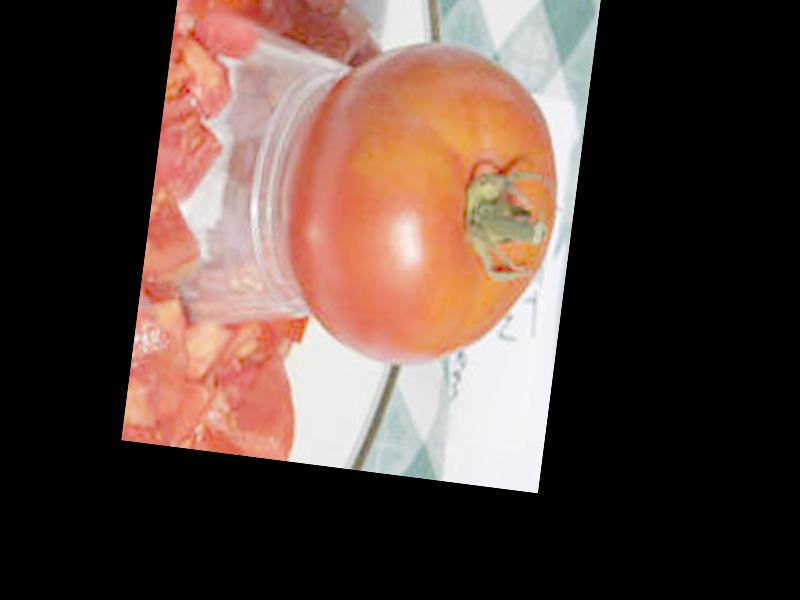Tomato: (270, 26, 578, 384)
